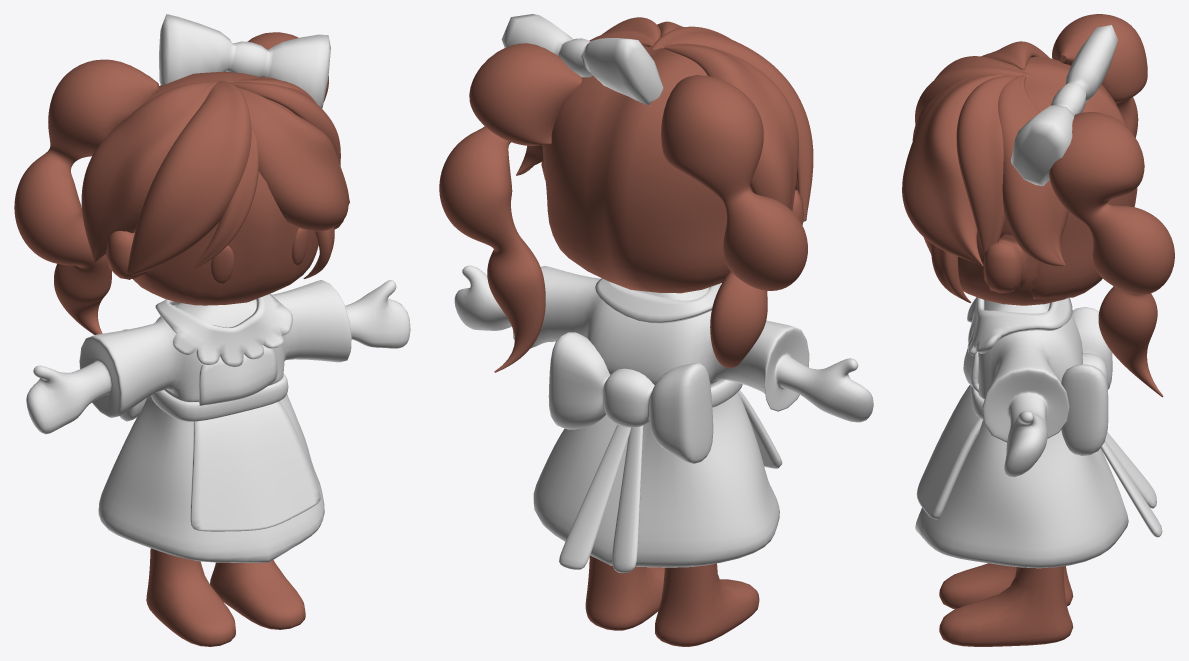
Rendered from May.fbx.
3 views of the same model, side by side, from view 1: azimuth 30°, elevation 25°; view 2: azimuth 150°, elevation 25°; view 3: azimuth 270°, elevation 25° (orthographic). The views are drawn at different scales.
Parts seen in each view (by area): view 1: NurbsPath.001, Plane.001, Cube.008, Cube.006, NurbsPath.002, Cube.005; view 2: Plane.001, NurbsPath.001, Cube.005, Cube.008, Cube.006; view 3: NurbsPath.001, Plane.001, Cube.008, Cube.006, Cube.005.
Part boxes in pixels (left/top/right/bottom): NurbsPath.001: left=14, top=32, right=349, bottom=334; Plane.001: left=26, top=280, right=410, bottom=562; Cube.008: left=146, top=548, right=305, bottom=646; Cube.006: left=159, top=14, right=330, bottom=108; NurbsPath.002: left=211, top=228, right=307, bottom=284; Cube.005: left=128, top=71, right=293, bottom=279; Plane.001: left=454, top=265, right=873, bottom=573; NurbsPath.001: left=439, top=17, right=813, bottom=372; Cube.005: left=542, top=46, right=752, bottom=293; Cube.008: left=585, top=555, right=759, bottom=646; Cube.006: left=501, top=14, right=663, bottom=105; NurbsPath.001: left=902, top=14, right=1174, bottom=397; Plane.001: left=915, top=297, right=1162, bottom=568; Cube.008: left=939, top=563, right=1073, bottom=646; Cube.006: left=1011, top=25, right=1117, bottom=186; Cube.005: left=977, top=56, right=1137, bottom=299.
Bounding box in the file's own units: 12050 × 17301 × 7219.
